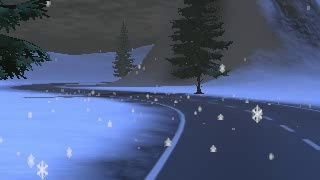Lane: (12, 83, 319, 179)
